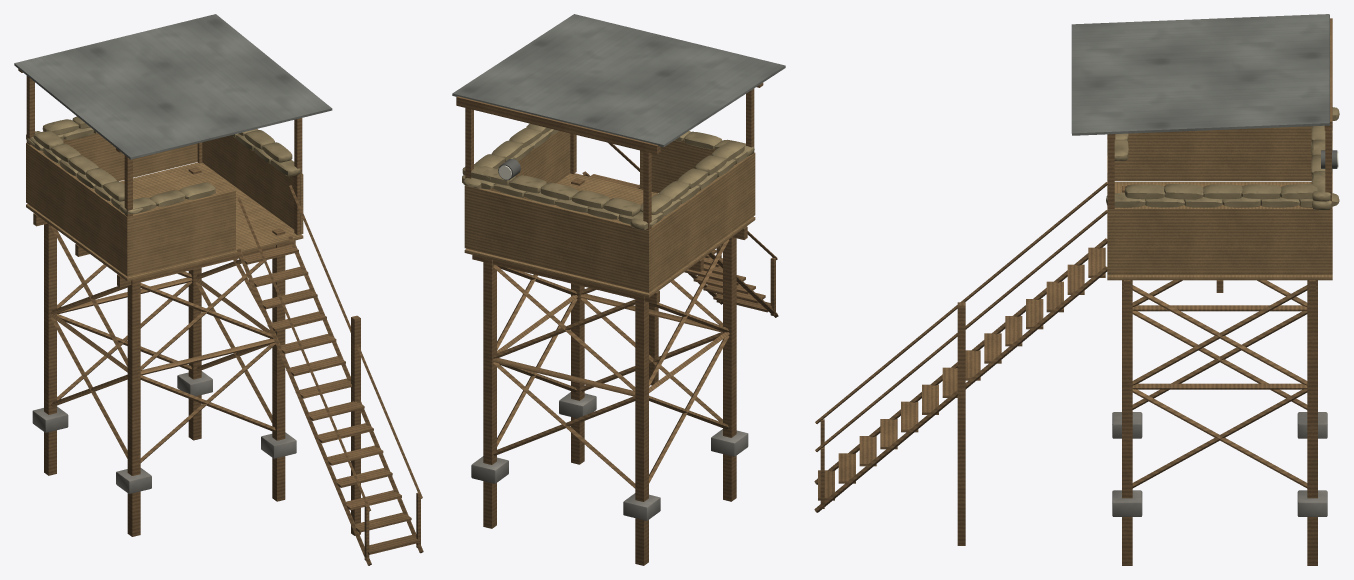
The model's file is guard_tower.glb.
3 renders of one model, left to right at view 1: azimuth 30°, elevation 25°; view 2: azimuth 150°, elevation 25°; view 3: azimuth 270°, elevation 25°, orthographic. The views are drawn at different scales.
Visible parts, largest first — view 1: guard_tower; view 2: guard_tower; view 3: guard_tower.
Boxes of the visible parts, <box> form: guard_tower: <box>14,14,423,565</box>; guard_tower: <box>452,14,785,565</box>; guard_tower: <box>814,14,1339,565</box>.
Bounding box in the file's own units: 3.9 × 7.6 × 7.94.
Materials: 7 (5 with a texture image).
